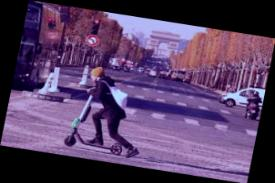nonhelmet: (61, 62, 156, 160)
